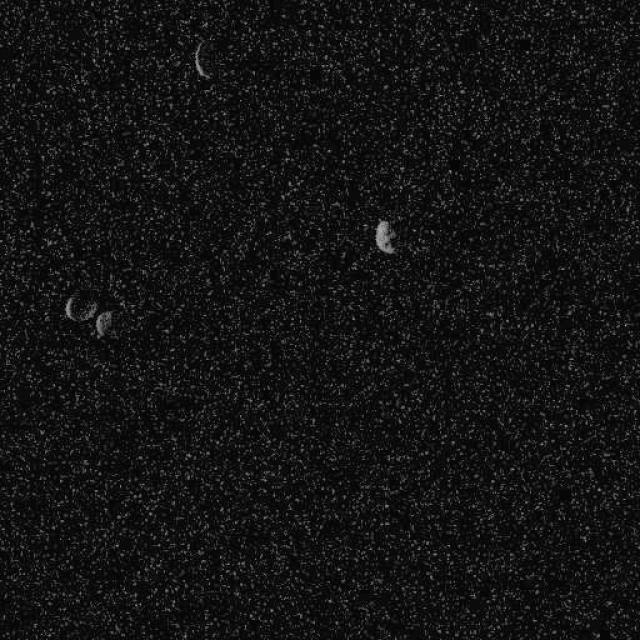D2: (64, 292, 98, 322), (373, 217, 398, 255), (192, 39, 214, 80), (94, 309, 114, 339)
